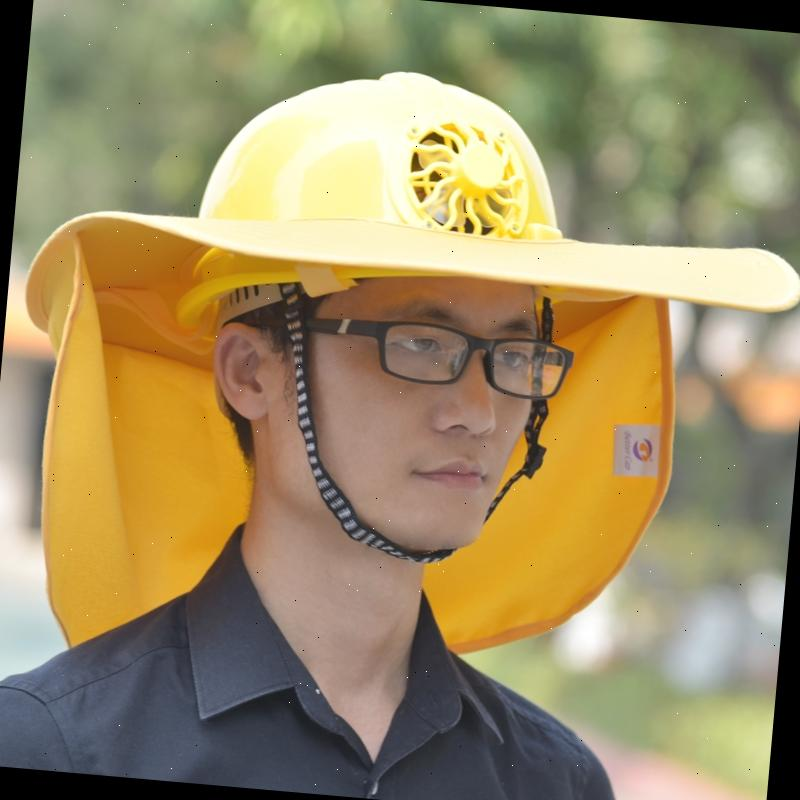helmet: (178, 47, 586, 264)
